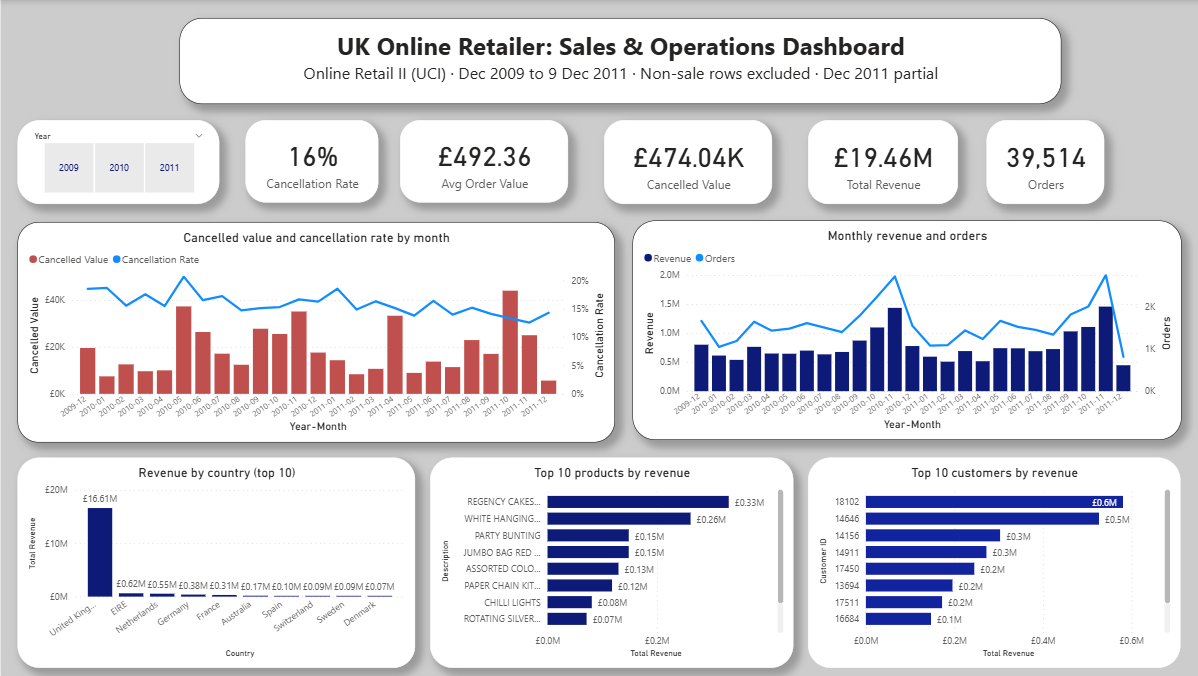

Layout of this report page (visuals, bound fields, positions):
{"tool":"powerbi","page":{"name":"Page 1","canvas":[1589,900],"ordinal":0},"visuals":[{"type":"card","fields":{"Values":["Sales.Avg Order Value"]},"box":[528.2,158.2,222.9,109.2],"z":0},{"type":"card","fields":{"Values":["Sales.Cancellation Rate"]},"box":[323.2,158.2,176.1,109.2],"z":1000},{"type":"card","fields":{"Values":["Sales.Cancelled Value"]},"box":[797.9,158.2,222.9,111.4],"z":3000},{"type":"card","fields":{"Values":["Sales.Orders"]},"box":[1306.1,158.2,156,111.4],"z":5000},{"type":"card","fields":{"Values":["Sales.Total Revenue"]},"box":[1069.8,158.2,198.4,111.4],"z":6000},{"type":"lineStackedColumnComboChart","title":"Monthly revenue and orders","fields":{"Y":["Sum(Sales.Revenue)"],"Category":["Date.Year-Month"],"Y2":["Sales.Orders"]},"box":[835.8,292.8,727.2,290.4],"z":7000},{"type":"clusteredBarChart","title":"Top 10 products by revenue","fields":{"Category":["Sales.Description"],"Y":["Sales.Total Revenue"]},"box":[569,606.8,481.7,278.6],"z":8000},{"type":"columnChart","title":"Revenue by country (top 10)","fields":{"Y":["Sales.Total Revenue"],"Category":["Sales.Country"]},"box":[21.2,606.8,526.5,278.6],"z":9000},{"type":"clusteredBarChart","title":"Top 10 customers by revenue","fields":{"Category":["Sales.Customer ID"],"Y":["Sales.Total Revenue"]},"box":[1069.6,606.8,493.5,278.6],"z":10000},{"type":"slicer","fields":{"Values":["Date.Year"]},"box":[22.3,158.2,267.5,111.4],"z":11000},{"type":"lineStackedColumnComboChart","title":"Cancelled value and cancellation rate by month","fields":{"Y":["Sales.Cancelled Value"],"Category":["Date.Year-Month"],"Y2":["Sales.Cancellation Rate"]},"box":[22.3,294.2,791.2,292],"z":12000},{"type":"textbox","box":[236.3,24.5,1167.9,113.7],"z":12001}]}

Visuals, with their boxes in screenshot pixels (x1, y1, x2, y2), scaled from the page's 1589x900 canvas onto the 1198x676 screenshot:
card - Sales.Avg Order Value: x1=398, y1=119, x2=566, y2=201
card - Sales.Cancellation Rate: x1=244, y1=119, x2=376, y2=201
card - Sales.Cancelled Value: x1=602, y1=119, x2=770, y2=202
card - Sales.Orders: x1=985, y1=119, x2=1102, y2=202
card - Sales.Total Revenue: x1=807, y1=119, x2=956, y2=202
"Monthly revenue and orders" lineStackedColumnComboChart: x1=630, y1=220, x2=1178, y2=438
"Top 10 products by revenue" clusteredBarChart: x1=429, y1=456, x2=792, y2=665
"Revenue by country (top 10)" columnChart: x1=16, y1=456, x2=413, y2=665
"Top 10 customers by revenue" clusteredBarChart: x1=806, y1=456, x2=1178, y2=665
slicer - Date.Year: x1=17, y1=119, x2=218, y2=202
"Cancelled value and cancellation rate by month" lineStackedColumnComboChart: x1=17, y1=221, x2=613, y2=440
textbox: x1=178, y1=18, x2=1059, y2=104
